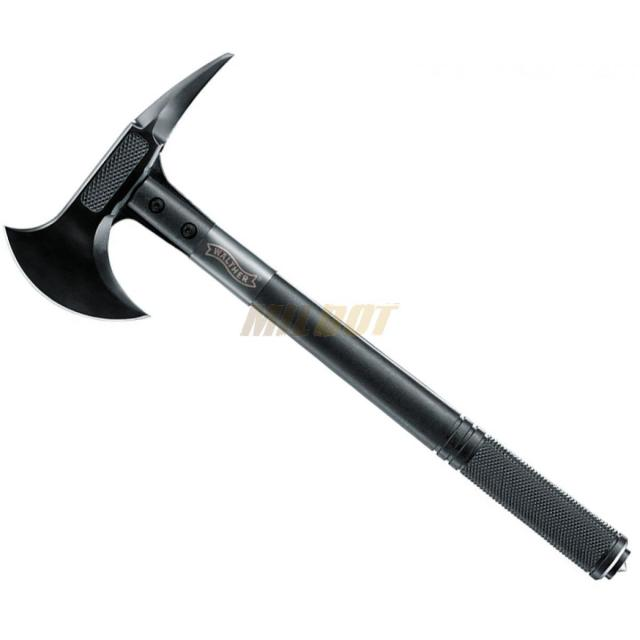Kapak: (46, 75, 585, 551)
